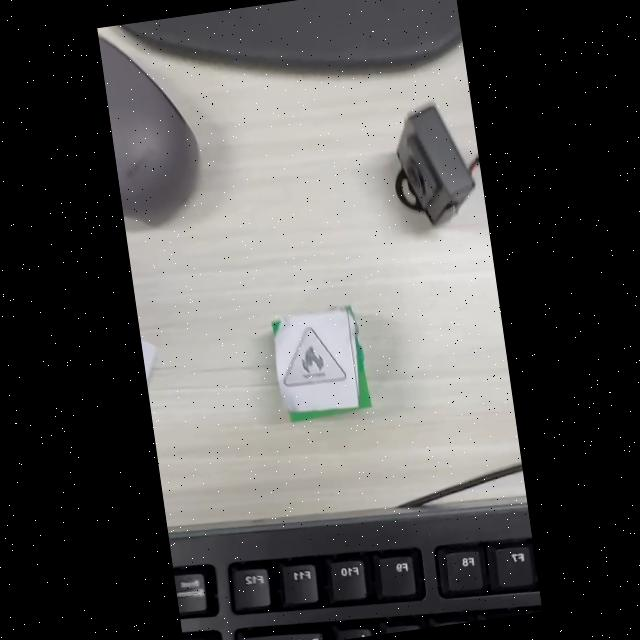Fire: (284, 326, 346, 388)
